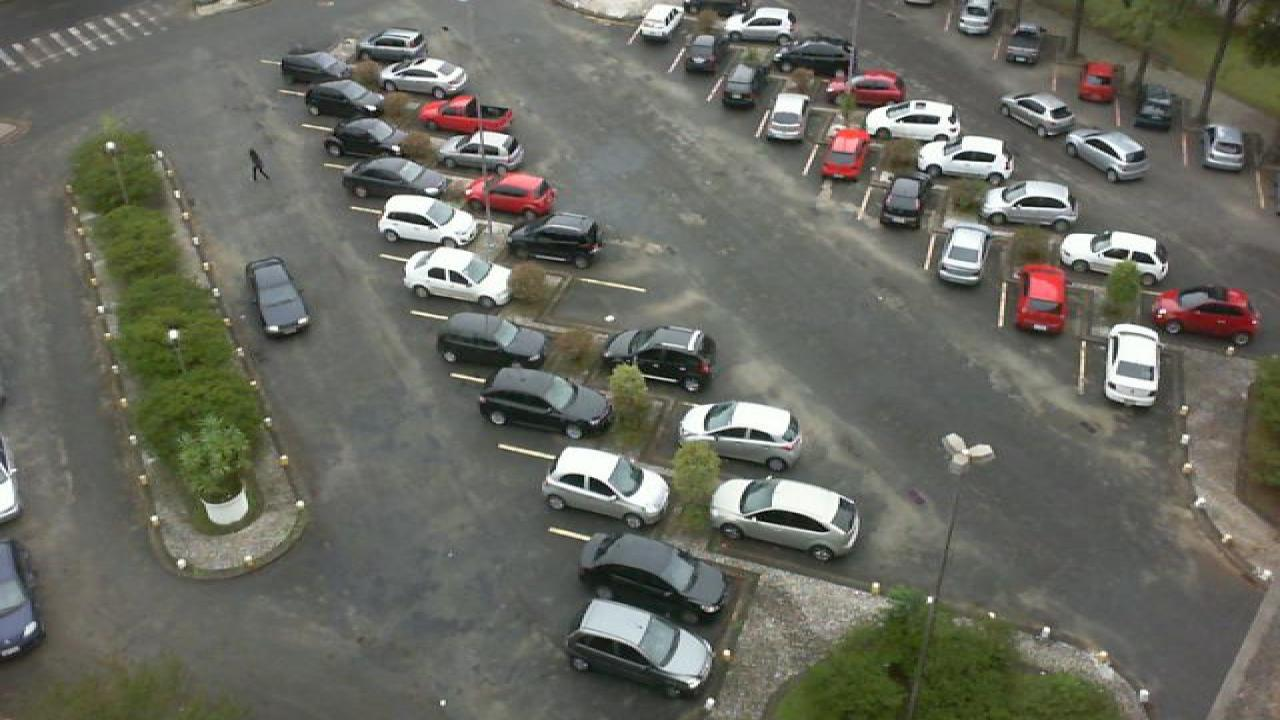Car: (562, 596, 716, 701), (576, 530, 730, 623), (708, 476, 862, 562), (540, 445, 672, 530), (476, 367, 616, 442), (676, 401, 804, 472), (598, 324, 720, 394), (432, 310, 550, 373), (1150, 284, 1262, 348), (400, 246, 512, 308), (1056, 228, 1170, 284), (502, 212, 608, 270), (374, 194, 476, 253), (244, 256, 312, 338), (980, 179, 1080, 233), (340, 154, 444, 205), (1100, 322, 1162, 406), (462, 168, 560, 220), (1064, 126, 1150, 183), (918, 134, 1012, 186), (860, 98, 960, 145), (1012, 261, 1070, 335), (322, 116, 408, 164), (418, 93, 514, 136), (436, 130, 526, 174), (380, 56, 470, 98), (998, 92, 1078, 138), (302, 78, 382, 121), (936, 223, 988, 287), (278, 46, 356, 86), (772, 35, 852, 74), (820, 125, 872, 184), (354, 26, 430, 63), (878, 173, 924, 231), (1200, 123, 1252, 173), (764, 91, 806, 143), (1130, 81, 1174, 129), (738, 7, 796, 43), (846, 71, 902, 108), (1002, 22, 1046, 66), (1078, 60, 1120, 103), (718, 63, 758, 108), (636, 2, 680, 42), (680, 30, 718, 74), (954, 0, 996, 35)
